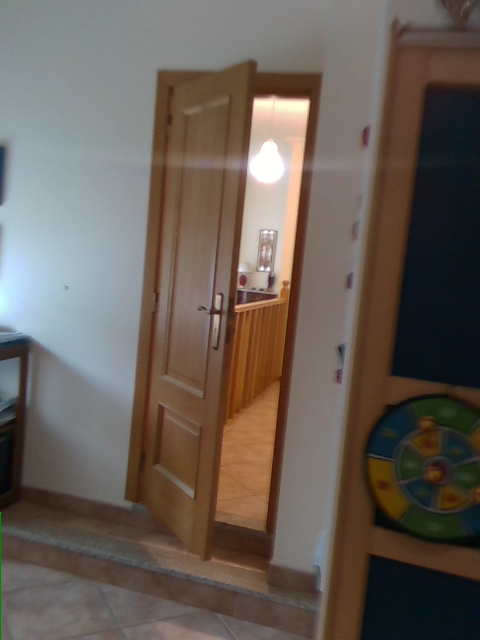semi: (127, 59, 325, 564)
